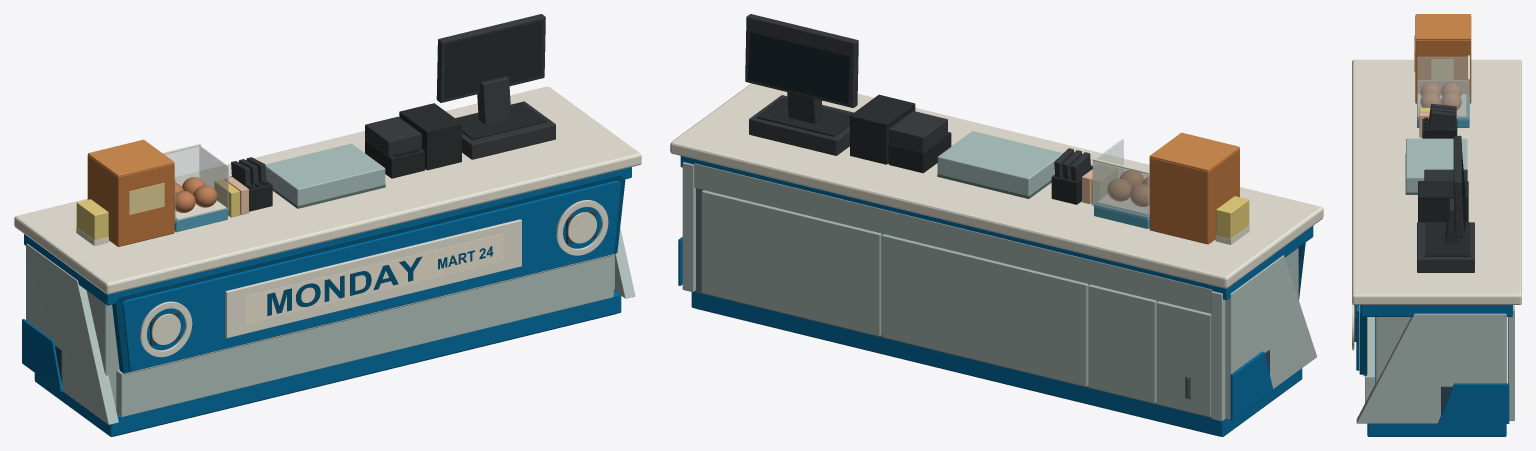
File: checkout.glb
The picture shows the model from 3 angles, left to right: view 1: azimuth 30°, elevation 25°; view 2: azimuth 150°, elevation 25°; view 3: azimuth 270°, elevation 25°; orthographic projection. The views are drawn at different scales.
Parts seen in each view (by area): view 1: Checkout | Acrylic upper edge.001, Checkout | Blue rail below countertop.001, Checkout | Left angled end cheek.001, Checkout | Dark organizer body.001, Checkout | Left POS peripheral top.001, Checkout | MART 24 raised lettering.001, Repair | Checkout nameplate adhesive backing.001, Checkout | Center pale rectangular pad.001, Checkout | Tall orange carton.001, Checkout | Acrylic left shield.001, Checkout | Carton top folded rim.001, Checkout | Short yellow package.001 (+5 smaller); view 2: Checkout | Cabinet carcass.001, Checkout | Acrylic upper edge.001, Checkout | Blue rail below countertop.001, Checkout | Left angled end cheek.001, Checkout | Left POS peripheral top.001, Checkout | Dark organizer body.001, Checkout | Tall orange carton.001, Checkout | Center pale rectangular pad.001, Checkout | Monitor cashier screen.001, Checkout | Acrylic left shield.001, Checkout | Carton top folded rim.001, Checkout | Pad thin lower edge.001 (+3 smaller); view 3: Checkout | Acrylic upper edge.001, Checkout | Left angled end cheek.001, Checkout | Blue rail below countertop.001, Checkout | Left POS peripheral top.001, Checkout | Dark organizer body.001, Checkout | Acrylic left shield.001, Checkout | Tall orange carton.001, Checkout | Center pale rectangular pad.001, Checkout | Carton top folded rim.001, Checkout | Cabinet carcass.001, Checkout | Bread roll 1.001, Checkout | MART 24 raised lettering.001 (+4 smaller).
Boxes of the visible parts, x1,y1,x2,y2 form: Checkout | Acrylic upper edge.001: (14,86,641,374); Checkout | Blue rail below countertop.001: (22,167,631,436); Checkout | Left angled end cheek.001: (26,228,635,424); Checkout | Dark organizer body.001: (229,20,546,211); Checkout | Left POS peripheral top.001: (231,14,555,187); Checkout | MART 24 raised lettering.001: (112,174,625,373); Repair | Checkout nameplate adhesive backing.001: (245,233,503,324); Checkout | Center pale rectangular pad.001: (265,143,385,205); Checkout | Tall orange carton.001: (87,155,174,246); Checkout | Acrylic left shield.001: (165,146,228,223); Checkout | Carton top folded rim.001: (88,139,174,176); Checkout | Short yellow package.001: (76,179,239,240); Checkout | Cabinet carcass.001: (694,163,1298,416); Checkout | Acrylic upper edge.001: (670,83,1323,288); Checkout | Blue rail below countertop.001: (678,156,1313,436); Checkout | Left angled end cheek.001: (682,162,1316,421); Checkout | Left POS peripheral top.001: (745,14,1091,181); Checkout | Dark organizer body.001: (756,94,1092,204); Checkout | Tall orange carton.001: (1149,148,1239,244); Checkout | Center pale rectangular pad.001: (937,131,1062,195); Checkout | Monitor cashier screen.001: (748,32,849,104); Checkout | Acrylic left shield.001: (1092,139,1149,219); Checkout | Carton top folded rim.001: (1149,132,1239,171); Checkout | Pad thin lower edge.001: (694,174,1211,417); Checkout | Acrylic upper edge.001: (1352,55,1521,375); Checkout | Left angled end cheek.001: (1356,306,1514,423); Checkout | Blue rail below countertop.001: (1356,305,1512,436); Checkout | Left POS peripheral top.001: (1417,103,1474,272); Checkout | Dark organizer body.001: (1418,117,1470,256); Checkout | Acrylic left shield.001: (1417,56,1469,120); Checkout | Tall orange carton.001: (1415,16,1471,103); Checkout | Center pale rectangular pad.001: (1406,138,1467,192); Checkout | Carton top folded rim.001: (1415,14,1470,39); Checkout | Cabinet carcass.001: (1375,305,1513,383); Checkout | Bread roll 1.001: (1420,82,1461,109); Checkout | MART 24 raised lettering.001: (1359,305,1367,374).
Bounding box in the file's own units: 4.15 × 2 × 1.26.
